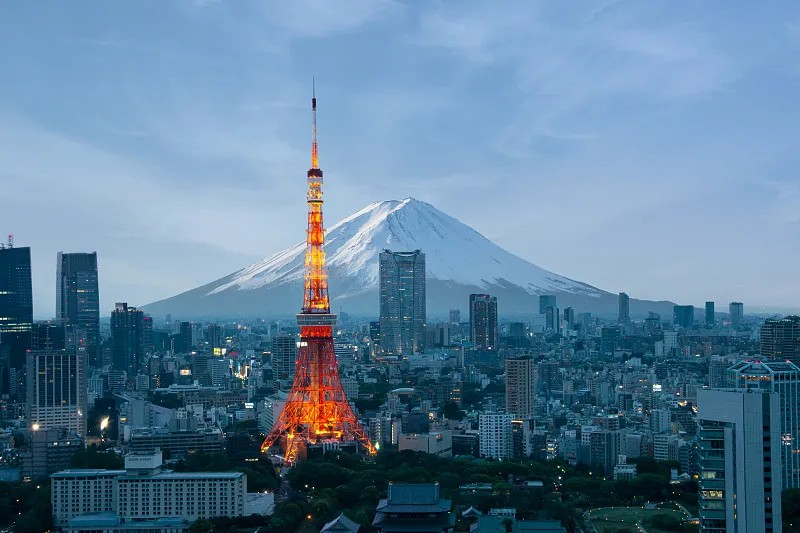Tokyo: (259, 72, 379, 463)
